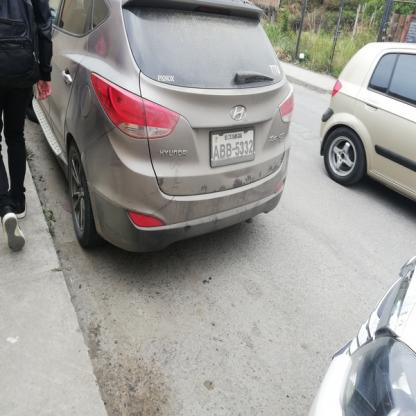Placa: (208, 130, 262, 165)
